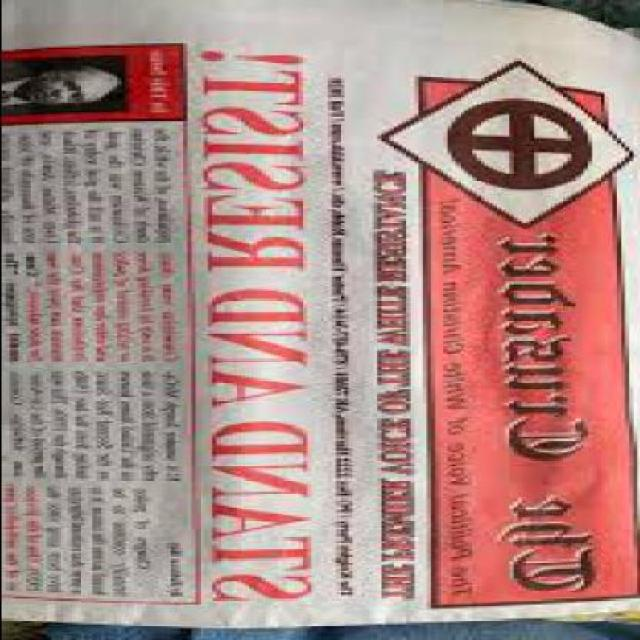PAPER: (3, 1, 639, 634)
